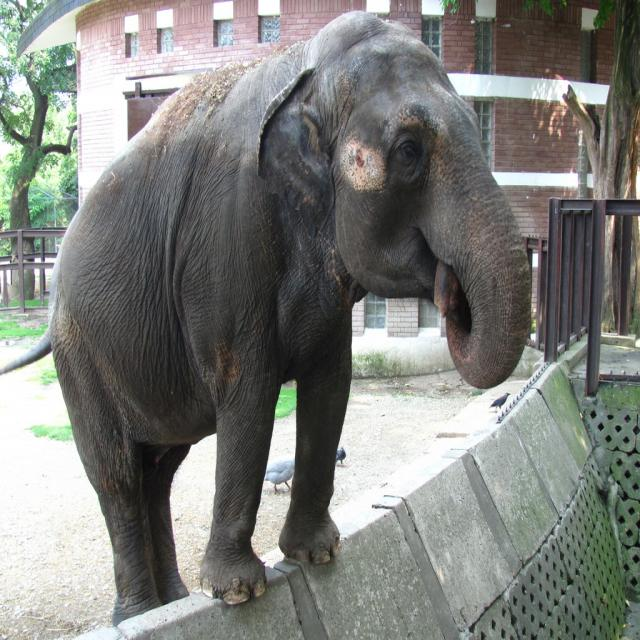Elephant: (25, 20, 515, 618)
